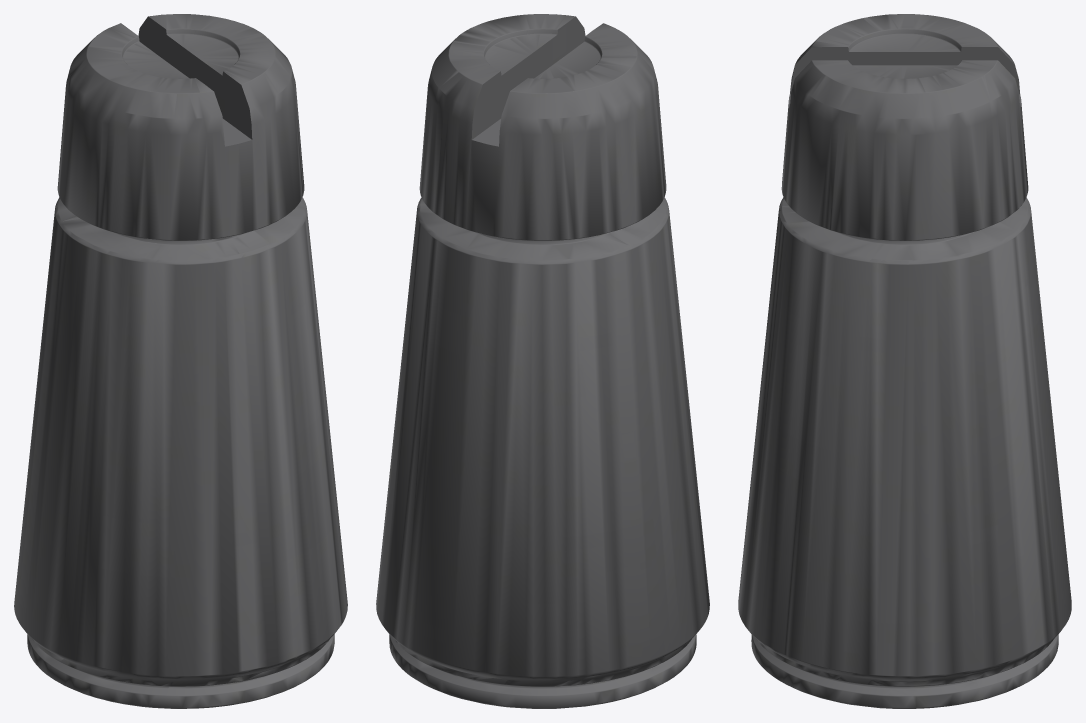
Rendered from rook-black.glb.
The picture shows the model from 3 angles, left to right: view 1: azimuth 30°, elevation 25°; view 2: azimuth 150°, elevation 25°; view 3: azimuth 270°, elevation 25°; orthographic projection.
Parts seen in each view (by area): view 1: 05_vez_cerna; view 2: 05_vez_cerna; view 3: 05_vez_cerna.
Boxes of the visible parts, x1=… form: 05_vez_cerna: x1=14, y1=14, x2=347, y2=708; 05_vez_cerna: x1=376, y1=14, x2=709, y2=708; 05_vez_cerna: x1=738, y1=14, x2=1071, y2=708.
Size of the model in its own units: 0.5928 by 1.16 by 0.5924.
Materials: 1 (1 with a texture image).
